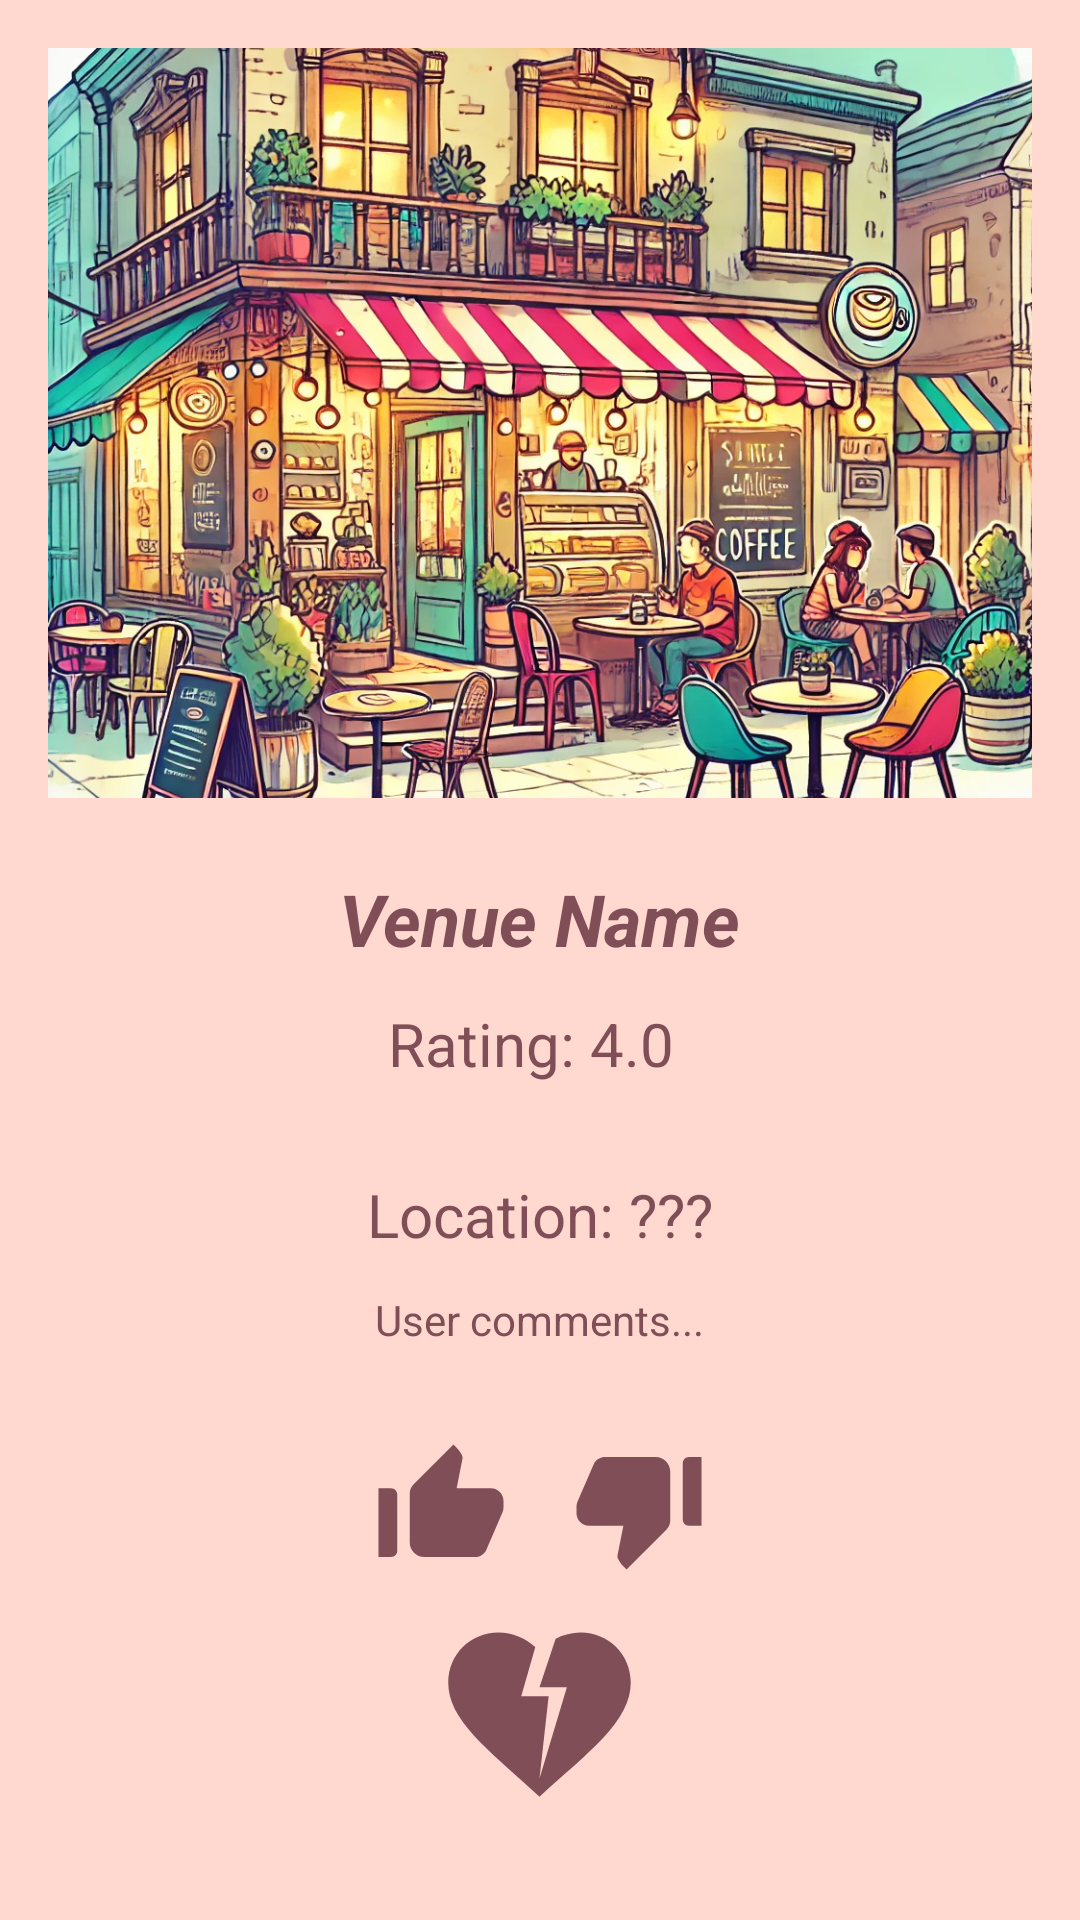

Where to tap for icons on this 1080w x 1920h app screen, as [x,y]:
Dislike Button: [639,1513]
Like Button: [441,1500]
